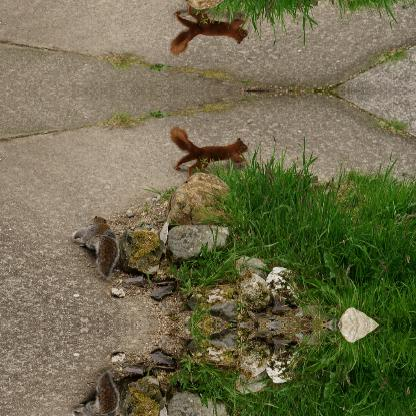Squirrel: (168, 125, 248, 177), (168, 5, 248, 57), (71, 213, 121, 279), (71, 371, 122, 415)
